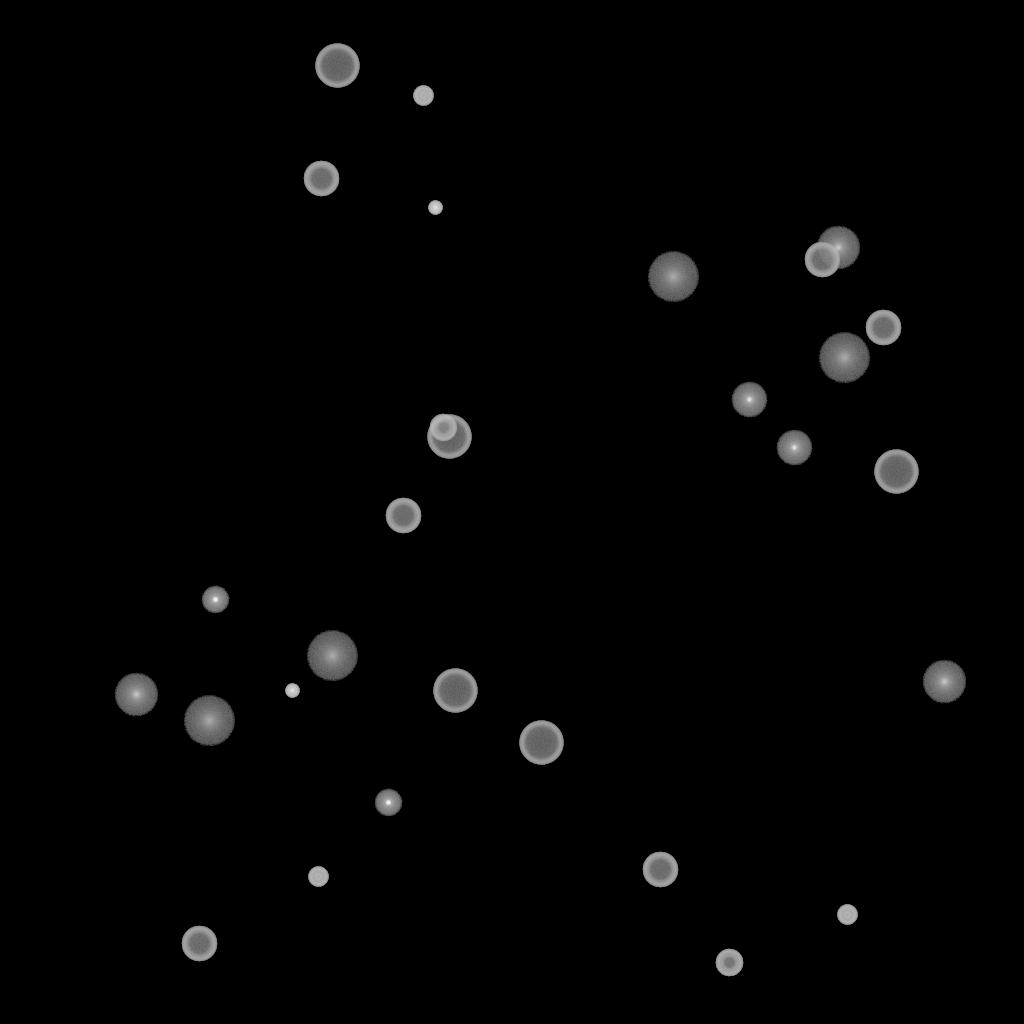depth:-10: (201, 586, 229, 614), (374, 789, 402, 817)
depth:-30: (285, 684, 299, 698), (428, 201, 442, 215)
depth:-40: (413, 86, 433, 106), (308, 867, 328, 887), (837, 905, 857, 925)
depth:-50: (715, 949, 743, 977), (429, 414, 457, 442)
depth:-60: (865, 310, 901, 346), (181, 926, 217, 962), (642, 852, 678, 888), (804, 242, 840, 278), (303, 161, 339, 197), (385, 498, 421, 534)
depth:-70: (874, 450, 918, 494), (433, 669, 477, 713), (519, 721, 563, 765), (427, 415, 471, 459), (315, 44, 359, 88)
depth:0: (776, 430, 812, 466), (731, 382, 767, 418)
depth:10: (922, 660, 966, 704), (816, 226, 860, 270), (114, 673, 158, 717)
depth:20: (183, 696, 235, 746), (306, 631, 358, 681), (647, 252, 699, 302), (818, 333, 870, 383)
